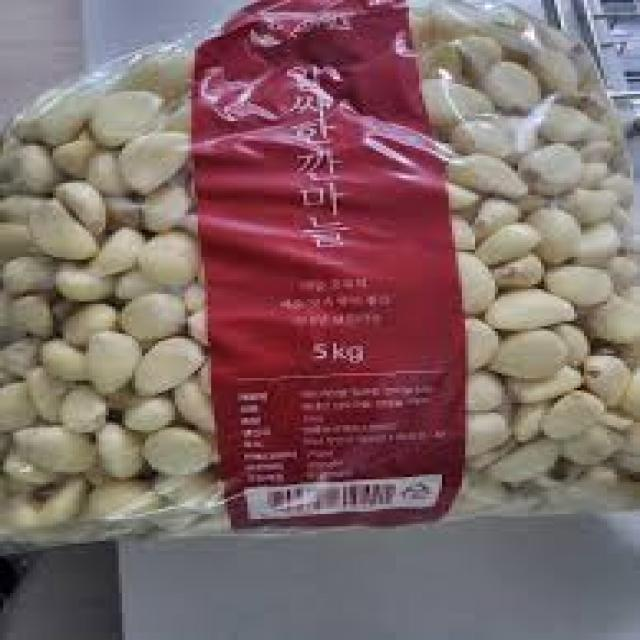Garlic bulb: (33, 334, 205, 462), (478, 282, 627, 425), (25, 202, 183, 324)
